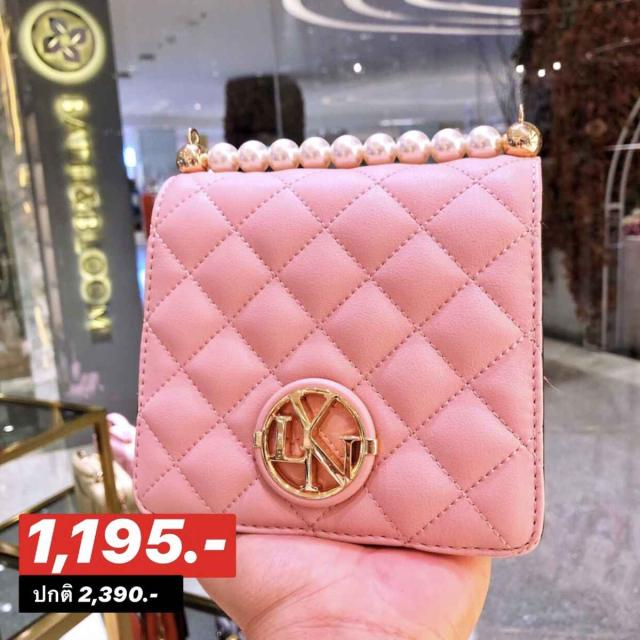Handbag: (100, 106, 599, 546)
